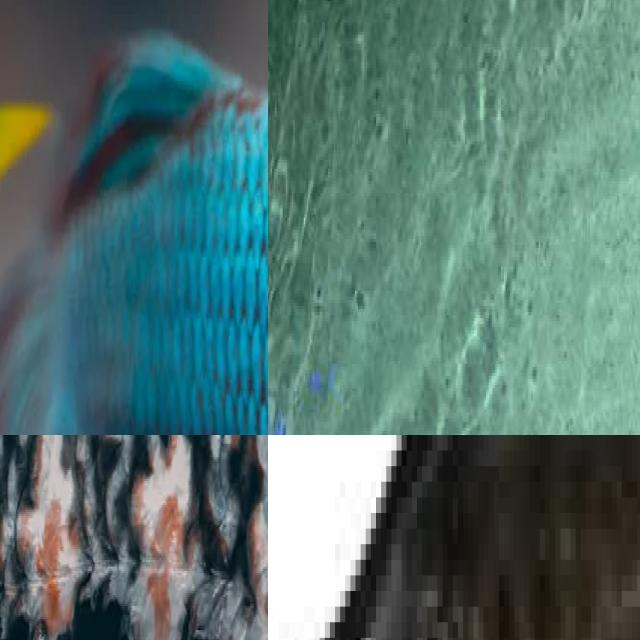fish: (0, 0, 268, 435), (268, 435, 640, 640)
